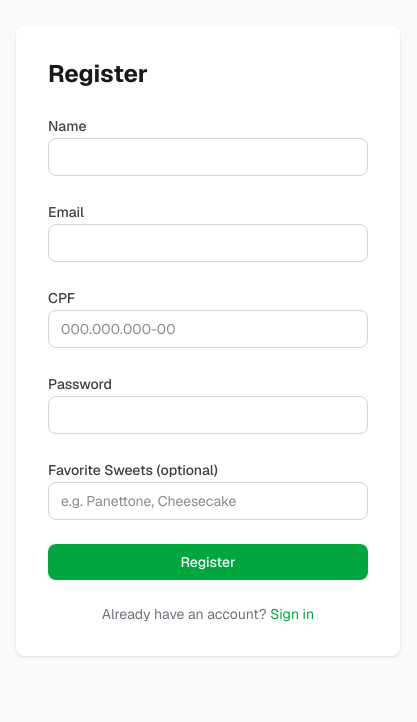
Scenario: RegisterPage › shows validation errors when submitting empty form
Click the button "Register" at (208, 562), box [48,544,368,580]
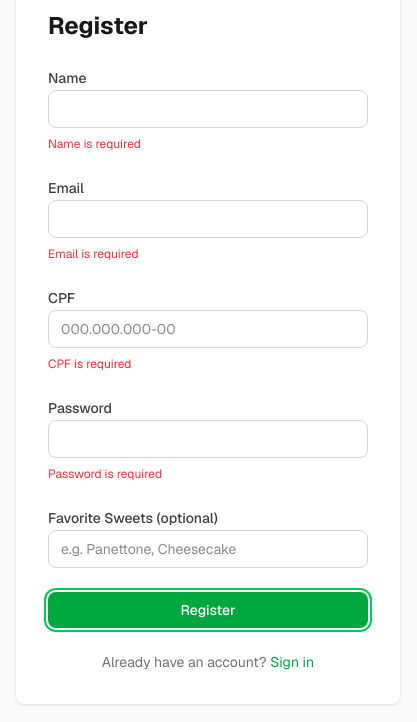
Expected: the text "Name is required" is shown, [48,136,141,152]
Expected: the text "Email is required" is shown, [48,246,139,262]
Expected: the text "CPF is required" is shown, [48,356,132,372]
